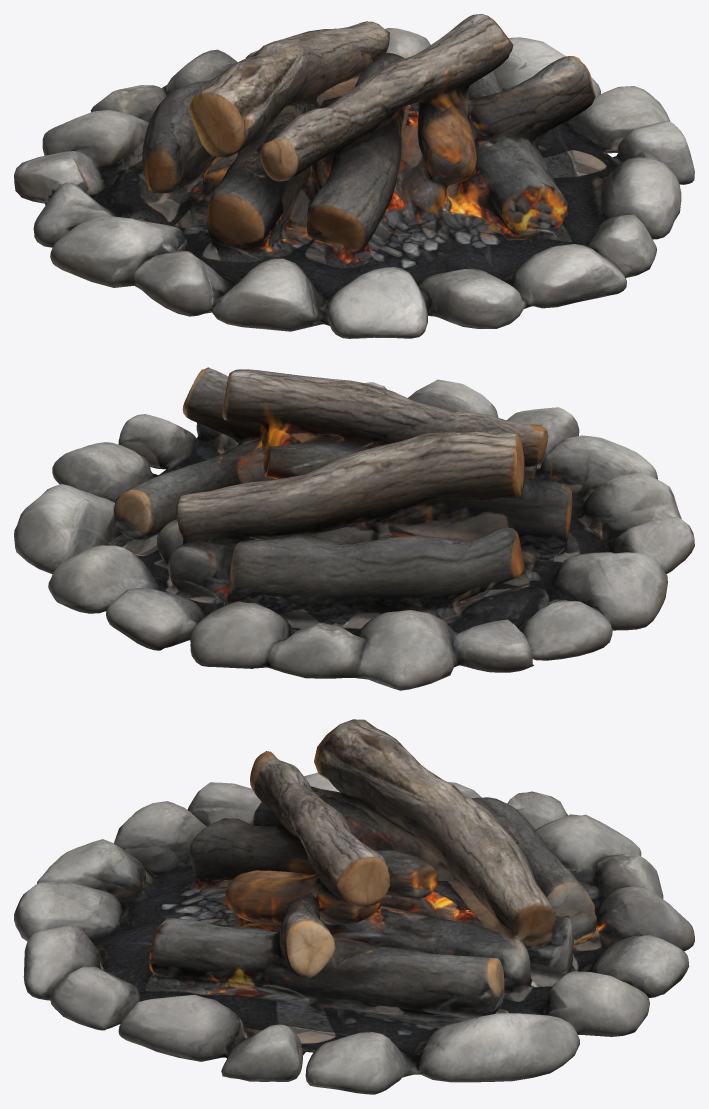
The model's file is Meshy_AI_the_ground_and_floor__0221052302_texture.glb.
3 renders of one model, top to bottom at view 1: azimuth 30°, elevation 25°; view 2: azimuth 150°, elevation 25°; view 3: azimuth 270°, elevation 25°, orthographic. The views are drawn at different scales.
Size of the model in its own units: 1.98 by 0.5038 by 1.88.
Materials: 1 (1 with a texture image).
